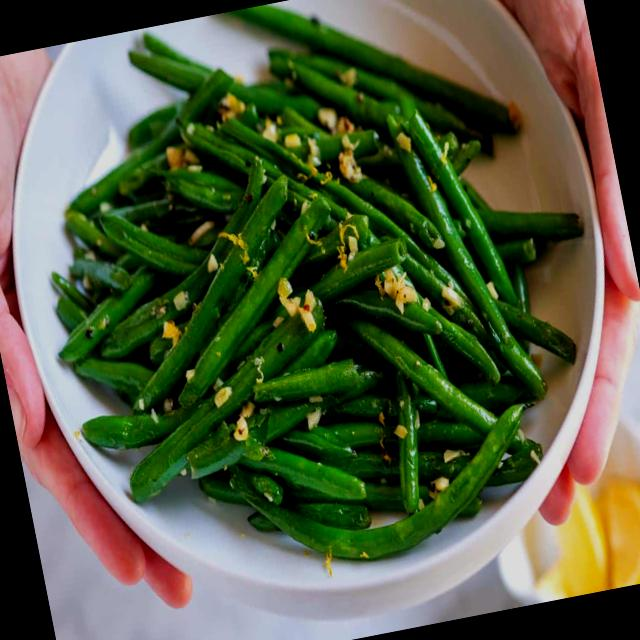dau que: (50, 4, 584, 576)
